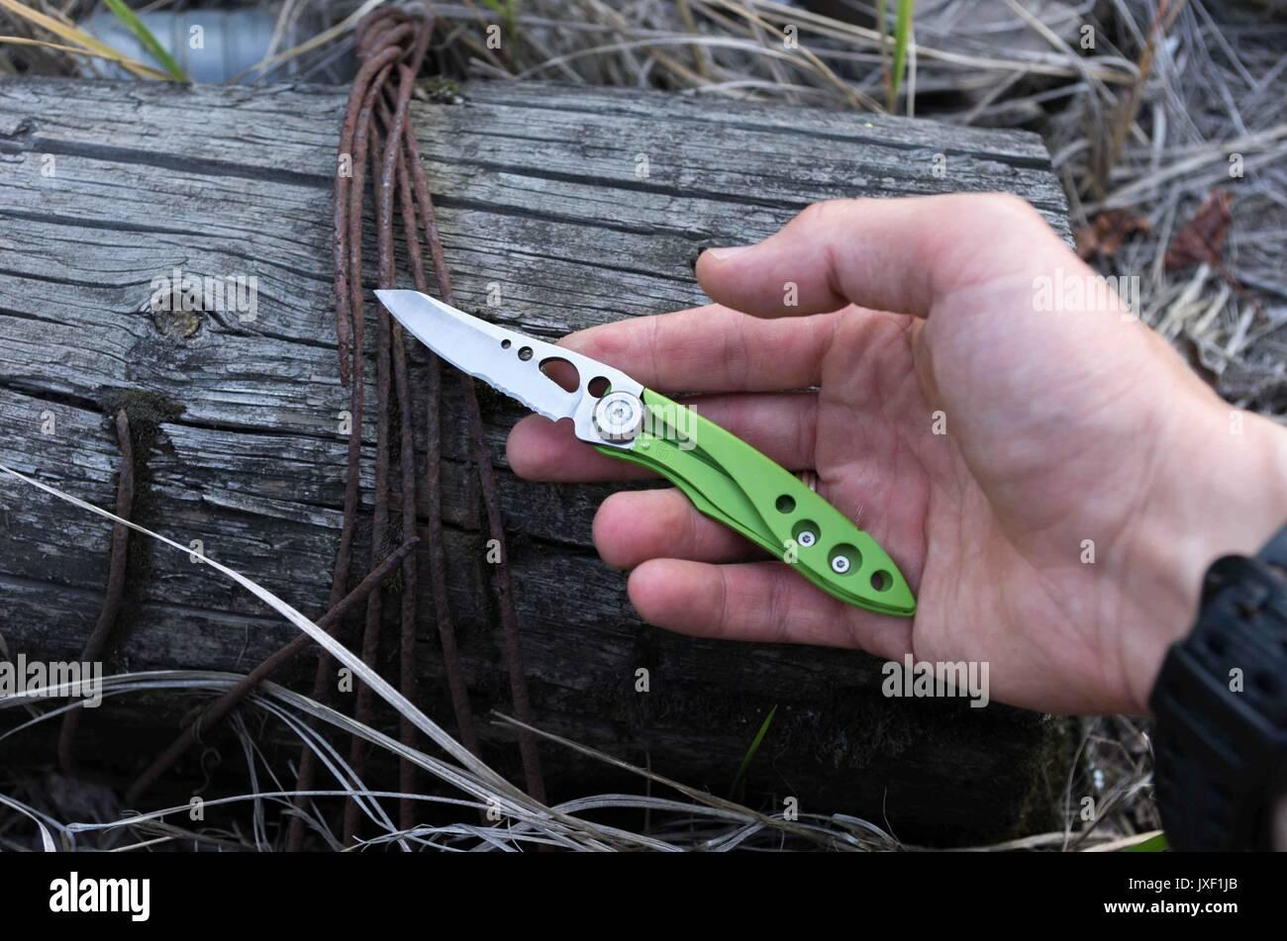Knife: (505, 188, 1287, 856), (505, 192, 1147, 711), (370, 288, 658, 455)
